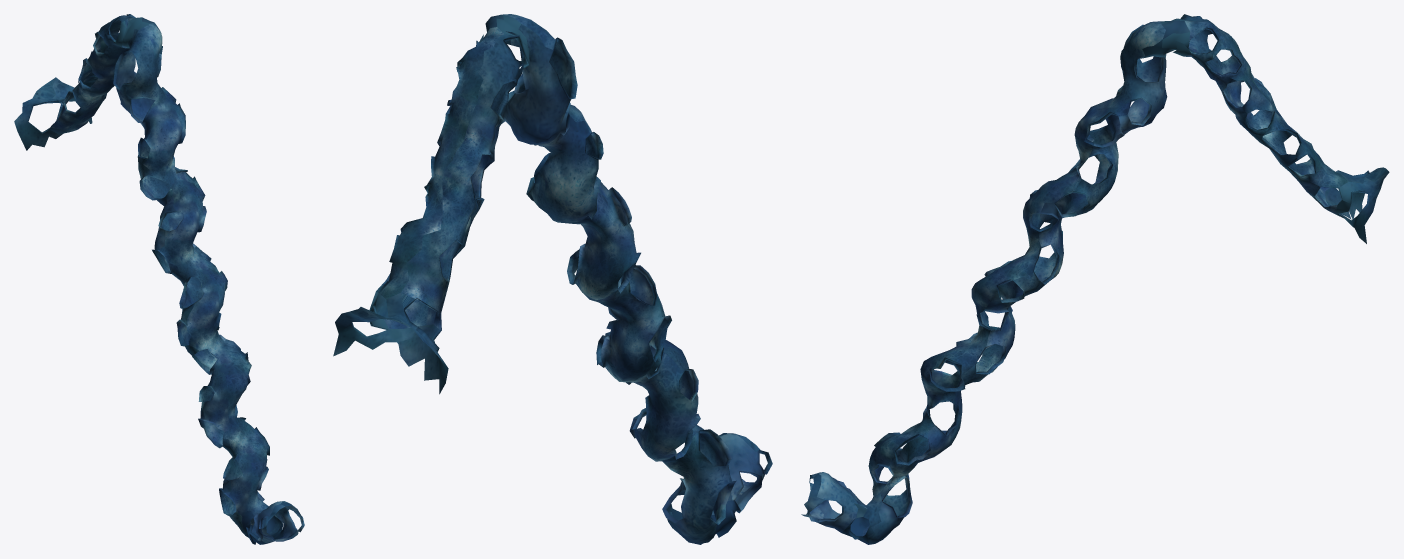
Rendered from stage3.fbx.
3 renders of one model, left to right at view 1: azimuth 30°, elevation 25°; view 2: azimuth 150°, elevation 25°; view 3: azimuth 270°, elevation 25°, orthographic. The views are drawn at different scales.
Parts seen in each view (by area): view 1: stage3; view 2: stage3; view 3: stage3.
Part boxes in pixels (box(x1,y1,x2,y2)): stage3: box(14, 14, 304, 544); stage3: box(333, 14, 772, 544); stage3: box(801, 14, 1389, 544).
Bounding box in the file's own units: 90.83 × 498 × 505.
